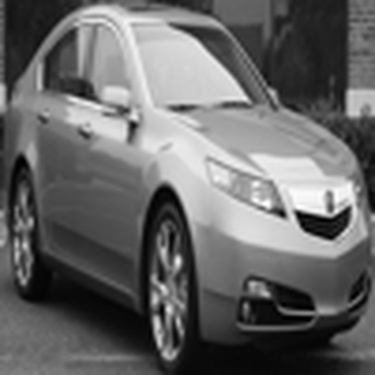car: (21, 14, 366, 356)
